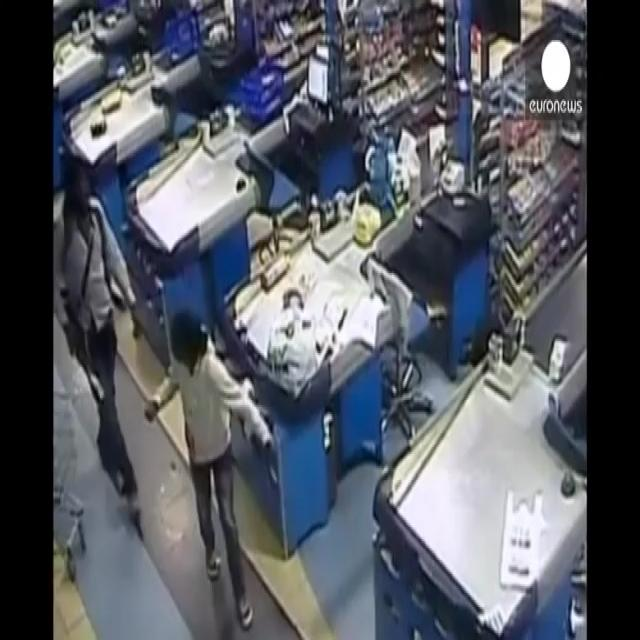Weapon: (53, 270, 122, 433)
